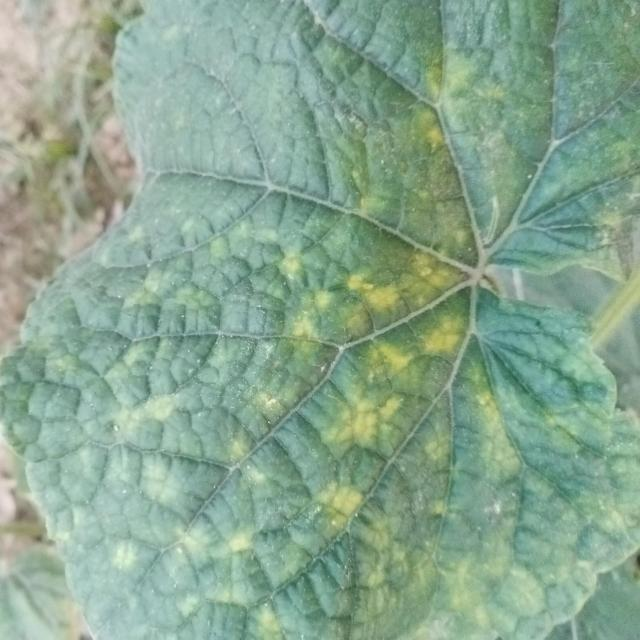cucumber_downy: (17, 1, 639, 636)
